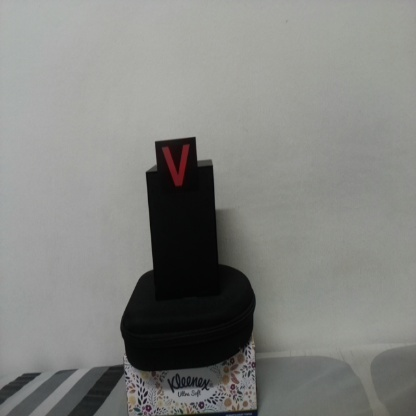id_11: (156, 140, 198, 194)
